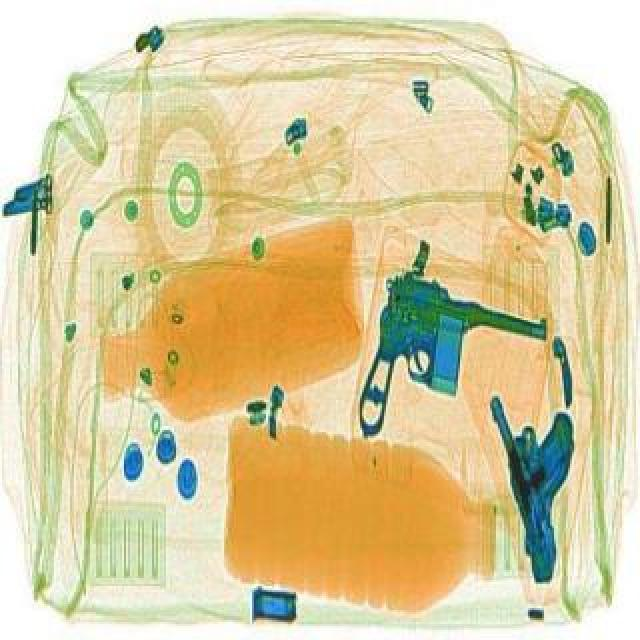gun: (340, 270, 560, 478), (486, 384, 616, 588)
